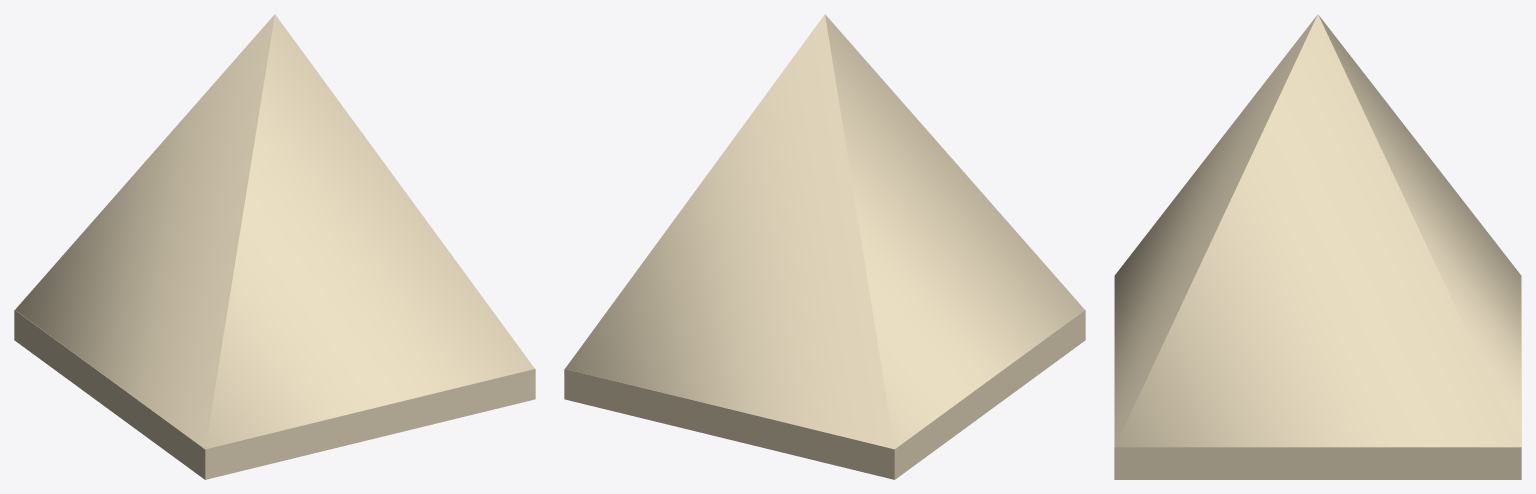
3 views of the same model, side by side, from view 1: azimuth 30°, elevation 25°; view 2: azimuth 150°, elevation 25°; view 3: azimuth 270°, elevation 25° (orthographic). The views are drawn at different scales.
Size of the model in its own units: 3.89 by 4 by 3.89.
